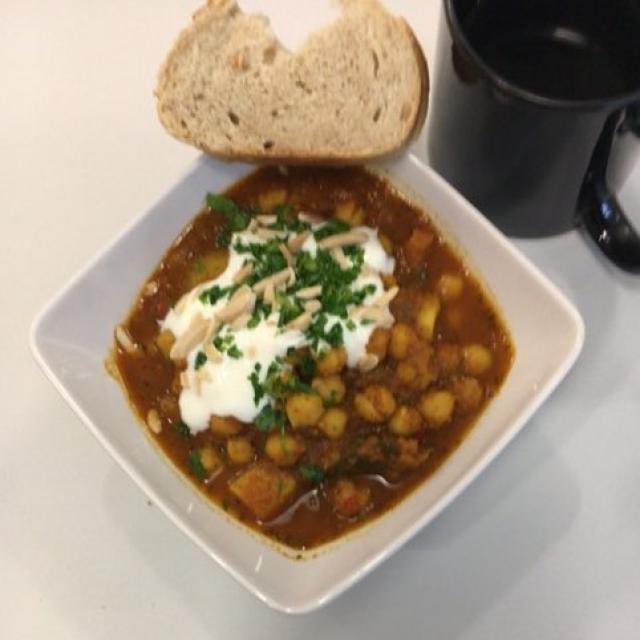almonds: (140, 214, 394, 373)
bread: (169, 6, 426, 171)
chickpeas: (106, 173, 502, 523)
sauce: (119, 166, 486, 544)
yogurt: (151, 210, 398, 424)
